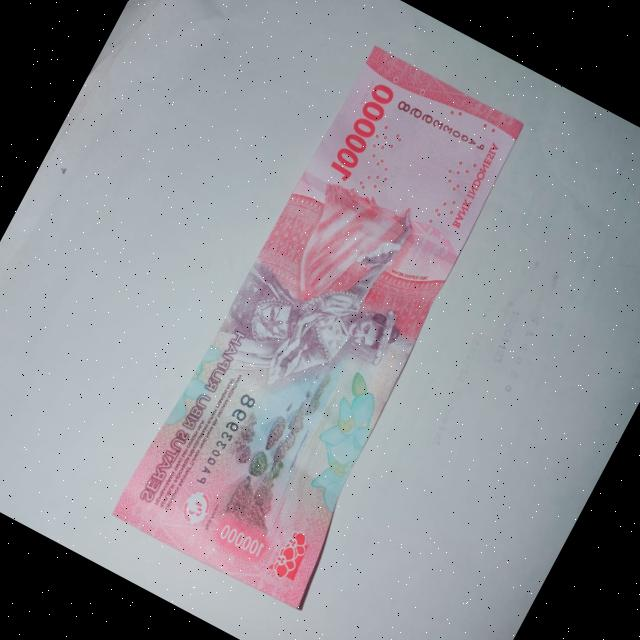100K: (104, 28, 556, 621)
